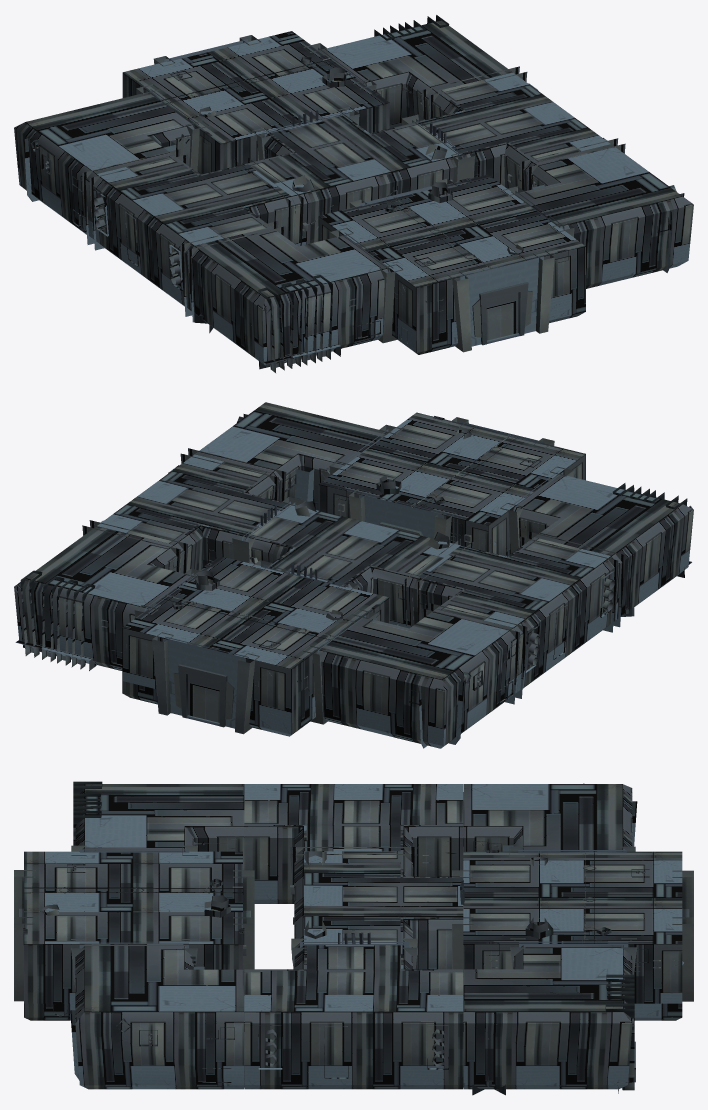
Rendered from Combined_Mesh_root_scene__22_9f3a19a4__zombies2_diffuse_03_64bb9bc2_c1f257.obj.
The picture shows the model from 3 angles, top to bottom: view 1: azimuth 30°, elevation 25°; view 2: azimuth 150°, elevation 25°; view 3: azimuth 270°, elevation 25°; orthographic projection. The views are drawn at different scales.
Size of the model in its own units: 52.07 by 9.64 by 62.1.
Materials: 147 (147 with a texture image).
